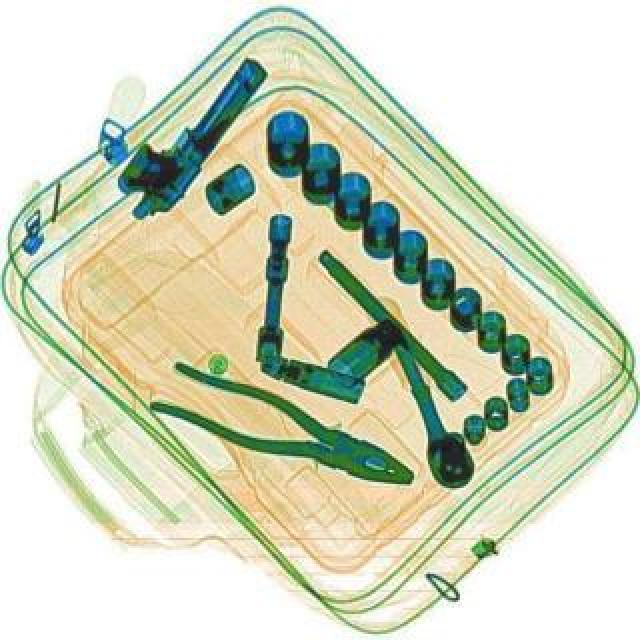gun: (98, 38, 278, 230)
wrench: (144, 348, 424, 504)
